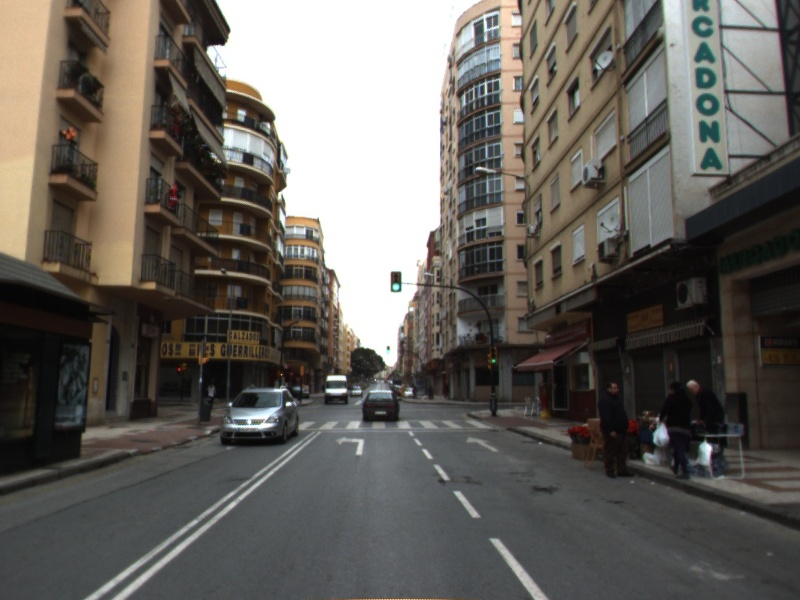LEFT: (334, 434, 366, 456)
STRAIGHT: (464, 435, 500, 453)
